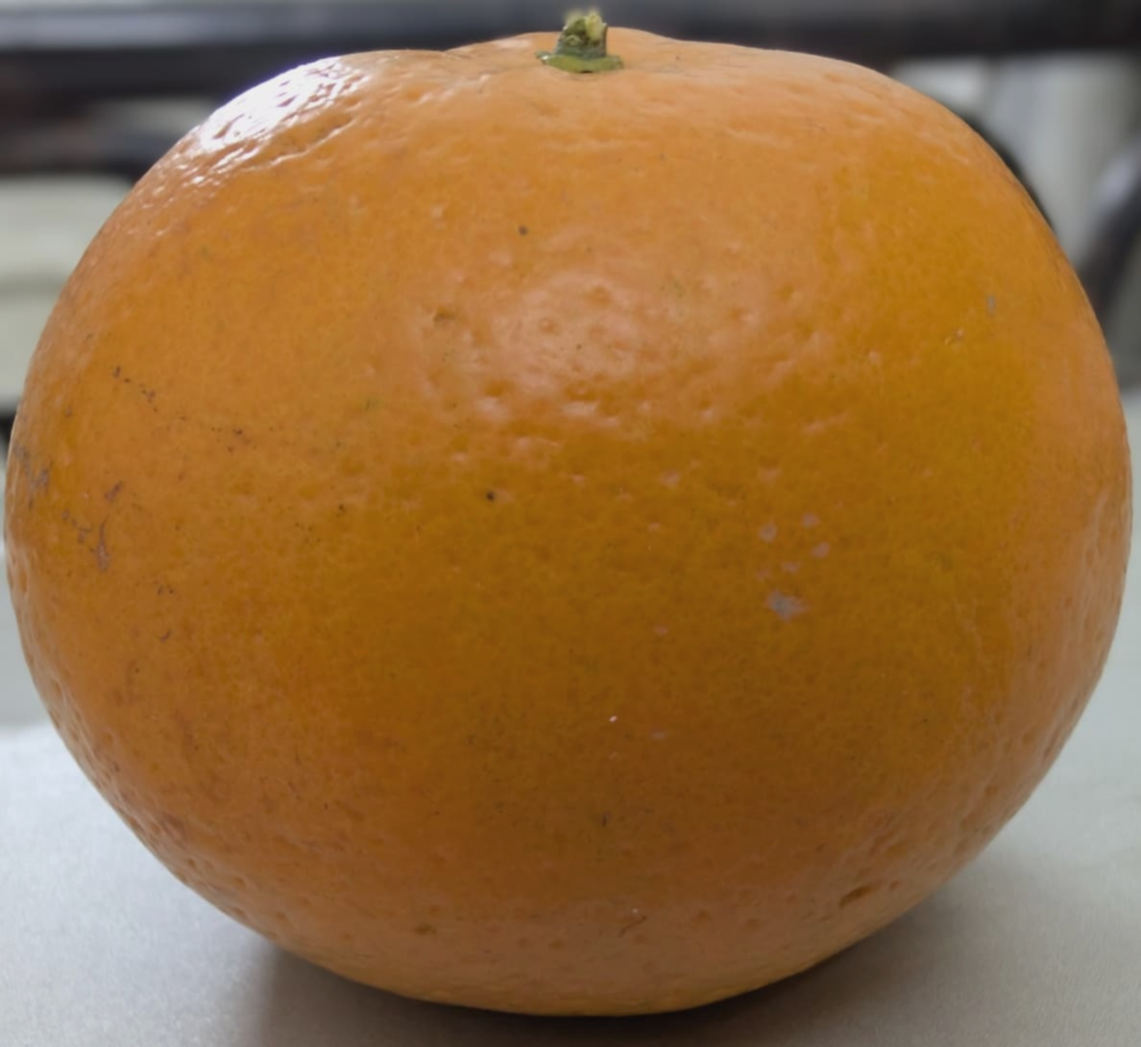orange: (91, 148, 838, 808)
